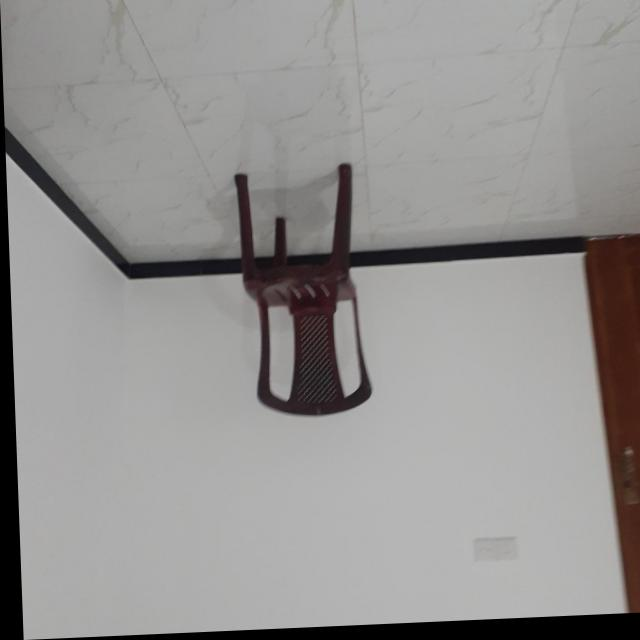Chair: (232, 166, 368, 422)
